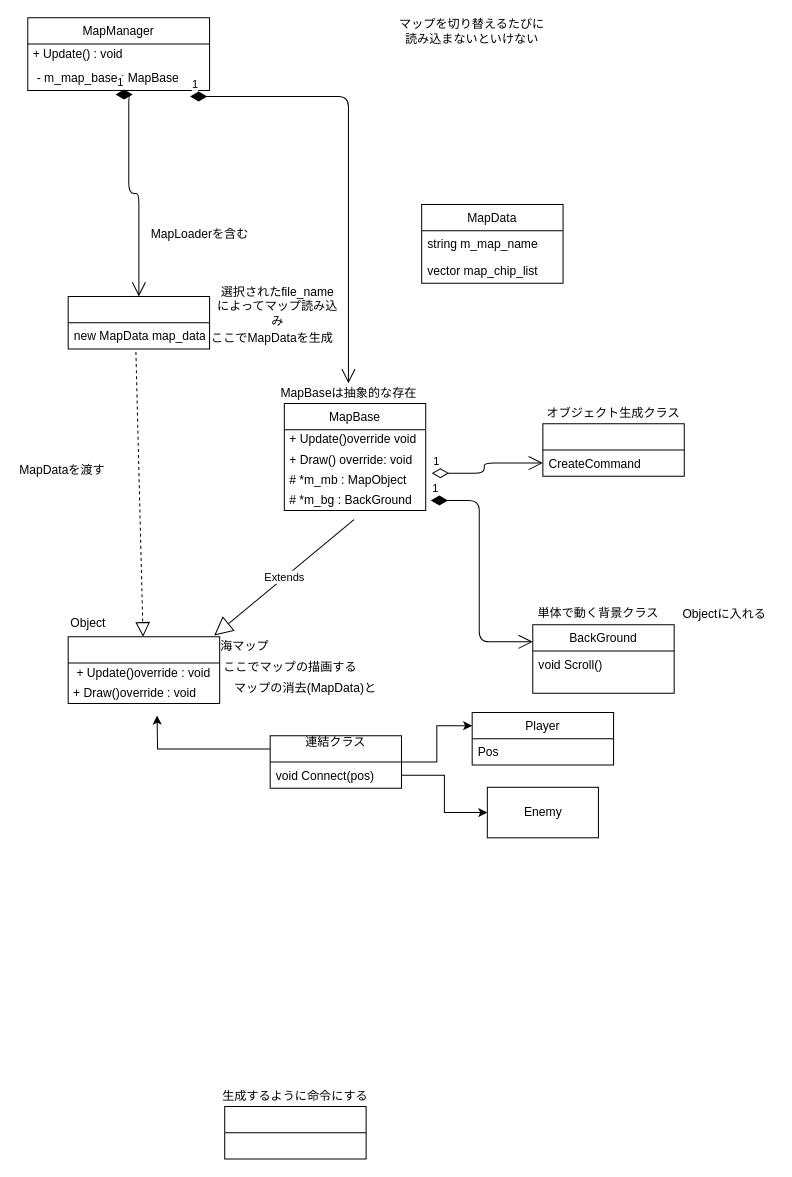
The diagram is 792 pixels wide and 1177 high, and some of its shapes have lost their labels. Here are the shapes that lost their labels. From the top down, the box of each, then its label:
(67, 295, 210, 349): MapLoader
(542, 423, 684, 476): MapObject
(67, 636, 220, 703): SeaMap
(224, 1105, 366, 1159): EnemyEntryCommand
